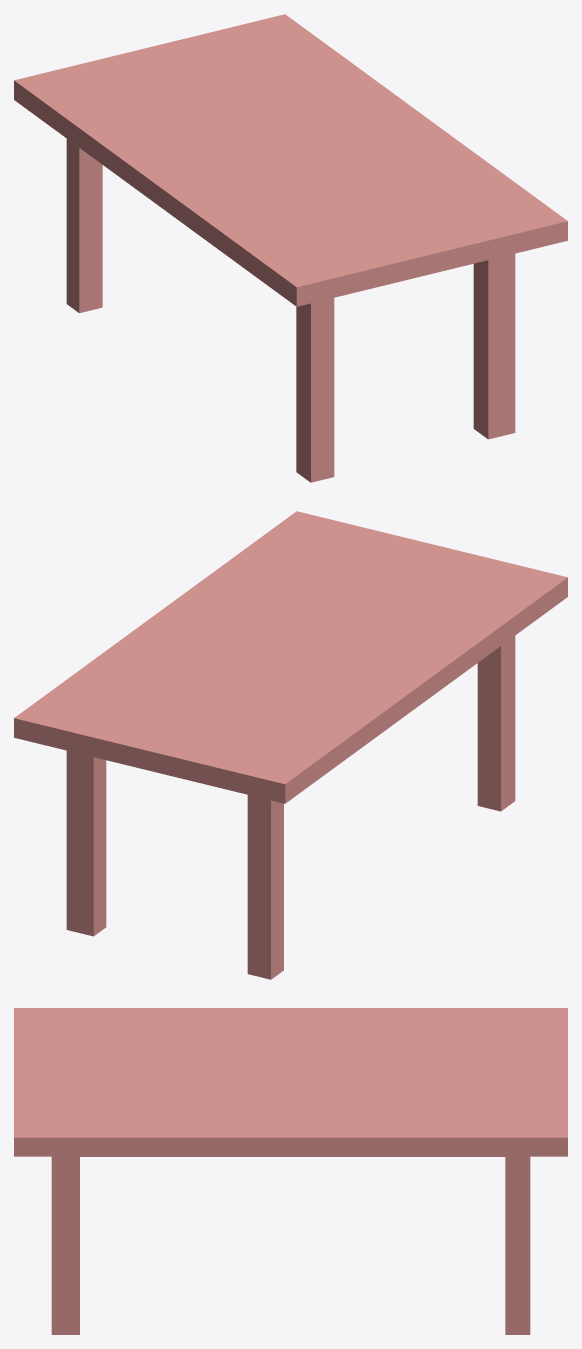
File: table.glb
3 renders of one model, top to bottom at view 1: azimuth 30°, elevation 25°; view 2: azimuth 150°, elevation 25°; view 3: azimuth 270°, elevation 25°, orthographic. The views are drawn at different scales.
Visible parts, largest first — view 1: table; view 2: table; view 3: table.
Boxes of the visible parts, <box> form: table: <box>14,14,567,482</box>; table: <box>14,511,567,979</box>; table: <box>14,1008,567,1334</box>.
Size of what is drawn, in the model's own units: 3.28 by 2.51 by 5.92.
